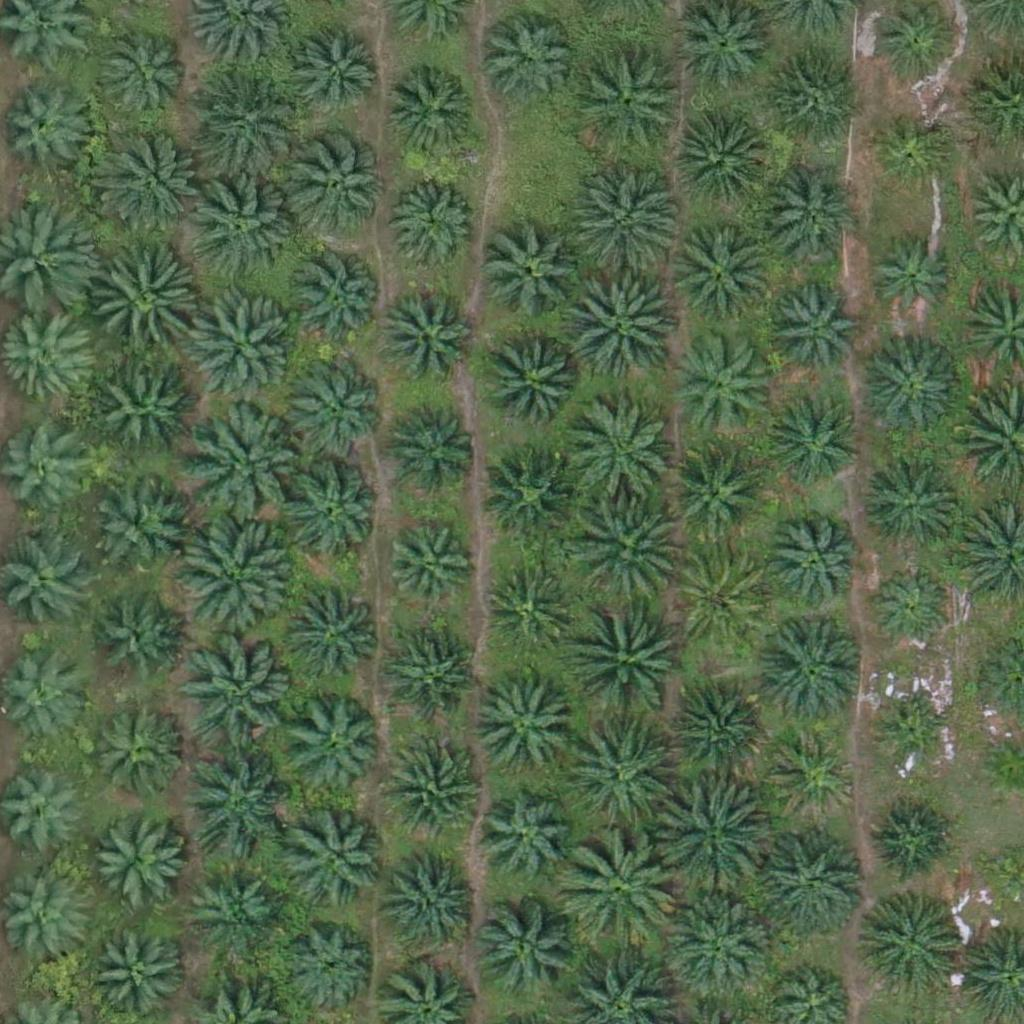Kelapa_Sawit: (91, 122, 204, 236), (185, 170, 298, 284), (573, 52, 686, 166), (560, 720, 673, 834), (569, 492, 682, 606), (188, 64, 301, 177), (566, 164, 679, 277), (563, 400, 676, 513), (569, 271, 682, 384), (177, 520, 290, 633), (190, 404, 303, 517), (181, 290, 294, 403), (665, 888, 777, 1002), (571, 595, 683, 709), (85, 249, 197, 362), (178, 747, 290, 860), (562, 834, 674, 947), (652, 782, 764, 895), (755, 823, 867, 936), (754, 613, 866, 726), (184, 636, 296, 749), (78, 472, 190, 585), (481, 221, 581, 322), (476, 14, 576, 115), (677, 109, 777, 210), (761, 56, 861, 157), (766, 165, 866, 266), (89, 807, 189, 908), (85, 698, 185, 799), (184, 859, 284, 960), (281, 693, 381, 794), (380, 737, 480, 838), (477, 788, 577, 889), (475, 898, 575, 999), (859, 340, 959, 441), (861, 453, 961, 554), (763, 512, 863, 613), (669, 330, 769, 431), (666, 440, 766, 541), (382, 625, 482, 726), (281, 458, 381, 559), (279, 584, 379, 685), (99, 364, 199, 465), (91, 21, 191, 121), (292, 132, 392, 232), (385, 64, 485, 164), (284, 253, 384, 353), (673, 223, 773, 323), (286, 812, 386, 912), (387, 848, 487, 948), (471, 679, 571, 779), (667, 683, 767, 783), (860, 891, 960, 991), (672, 549, 772, 649), (483, 331, 583, 431), (483, 445, 583, 545), (386, 396, 486, 496), (378, 287, 478, 387), (287, 360, 387, 460), (388, 174, 476, 262), (870, 104, 958, 192), (866, 566, 954, 654), (769, 398, 857, 486), (768, 289, 856, 377), (482, 564, 570, 652), (384, 526, 472, 614), (92, 593, 180, 681), (1, 82, 88, 170), (288, 30, 375, 118), (865, 236, 952, 324), (769, 731, 856, 819), (286, 923, 373, 1011), (868, 795, 955, 883), (878, 701, 953, 776)
